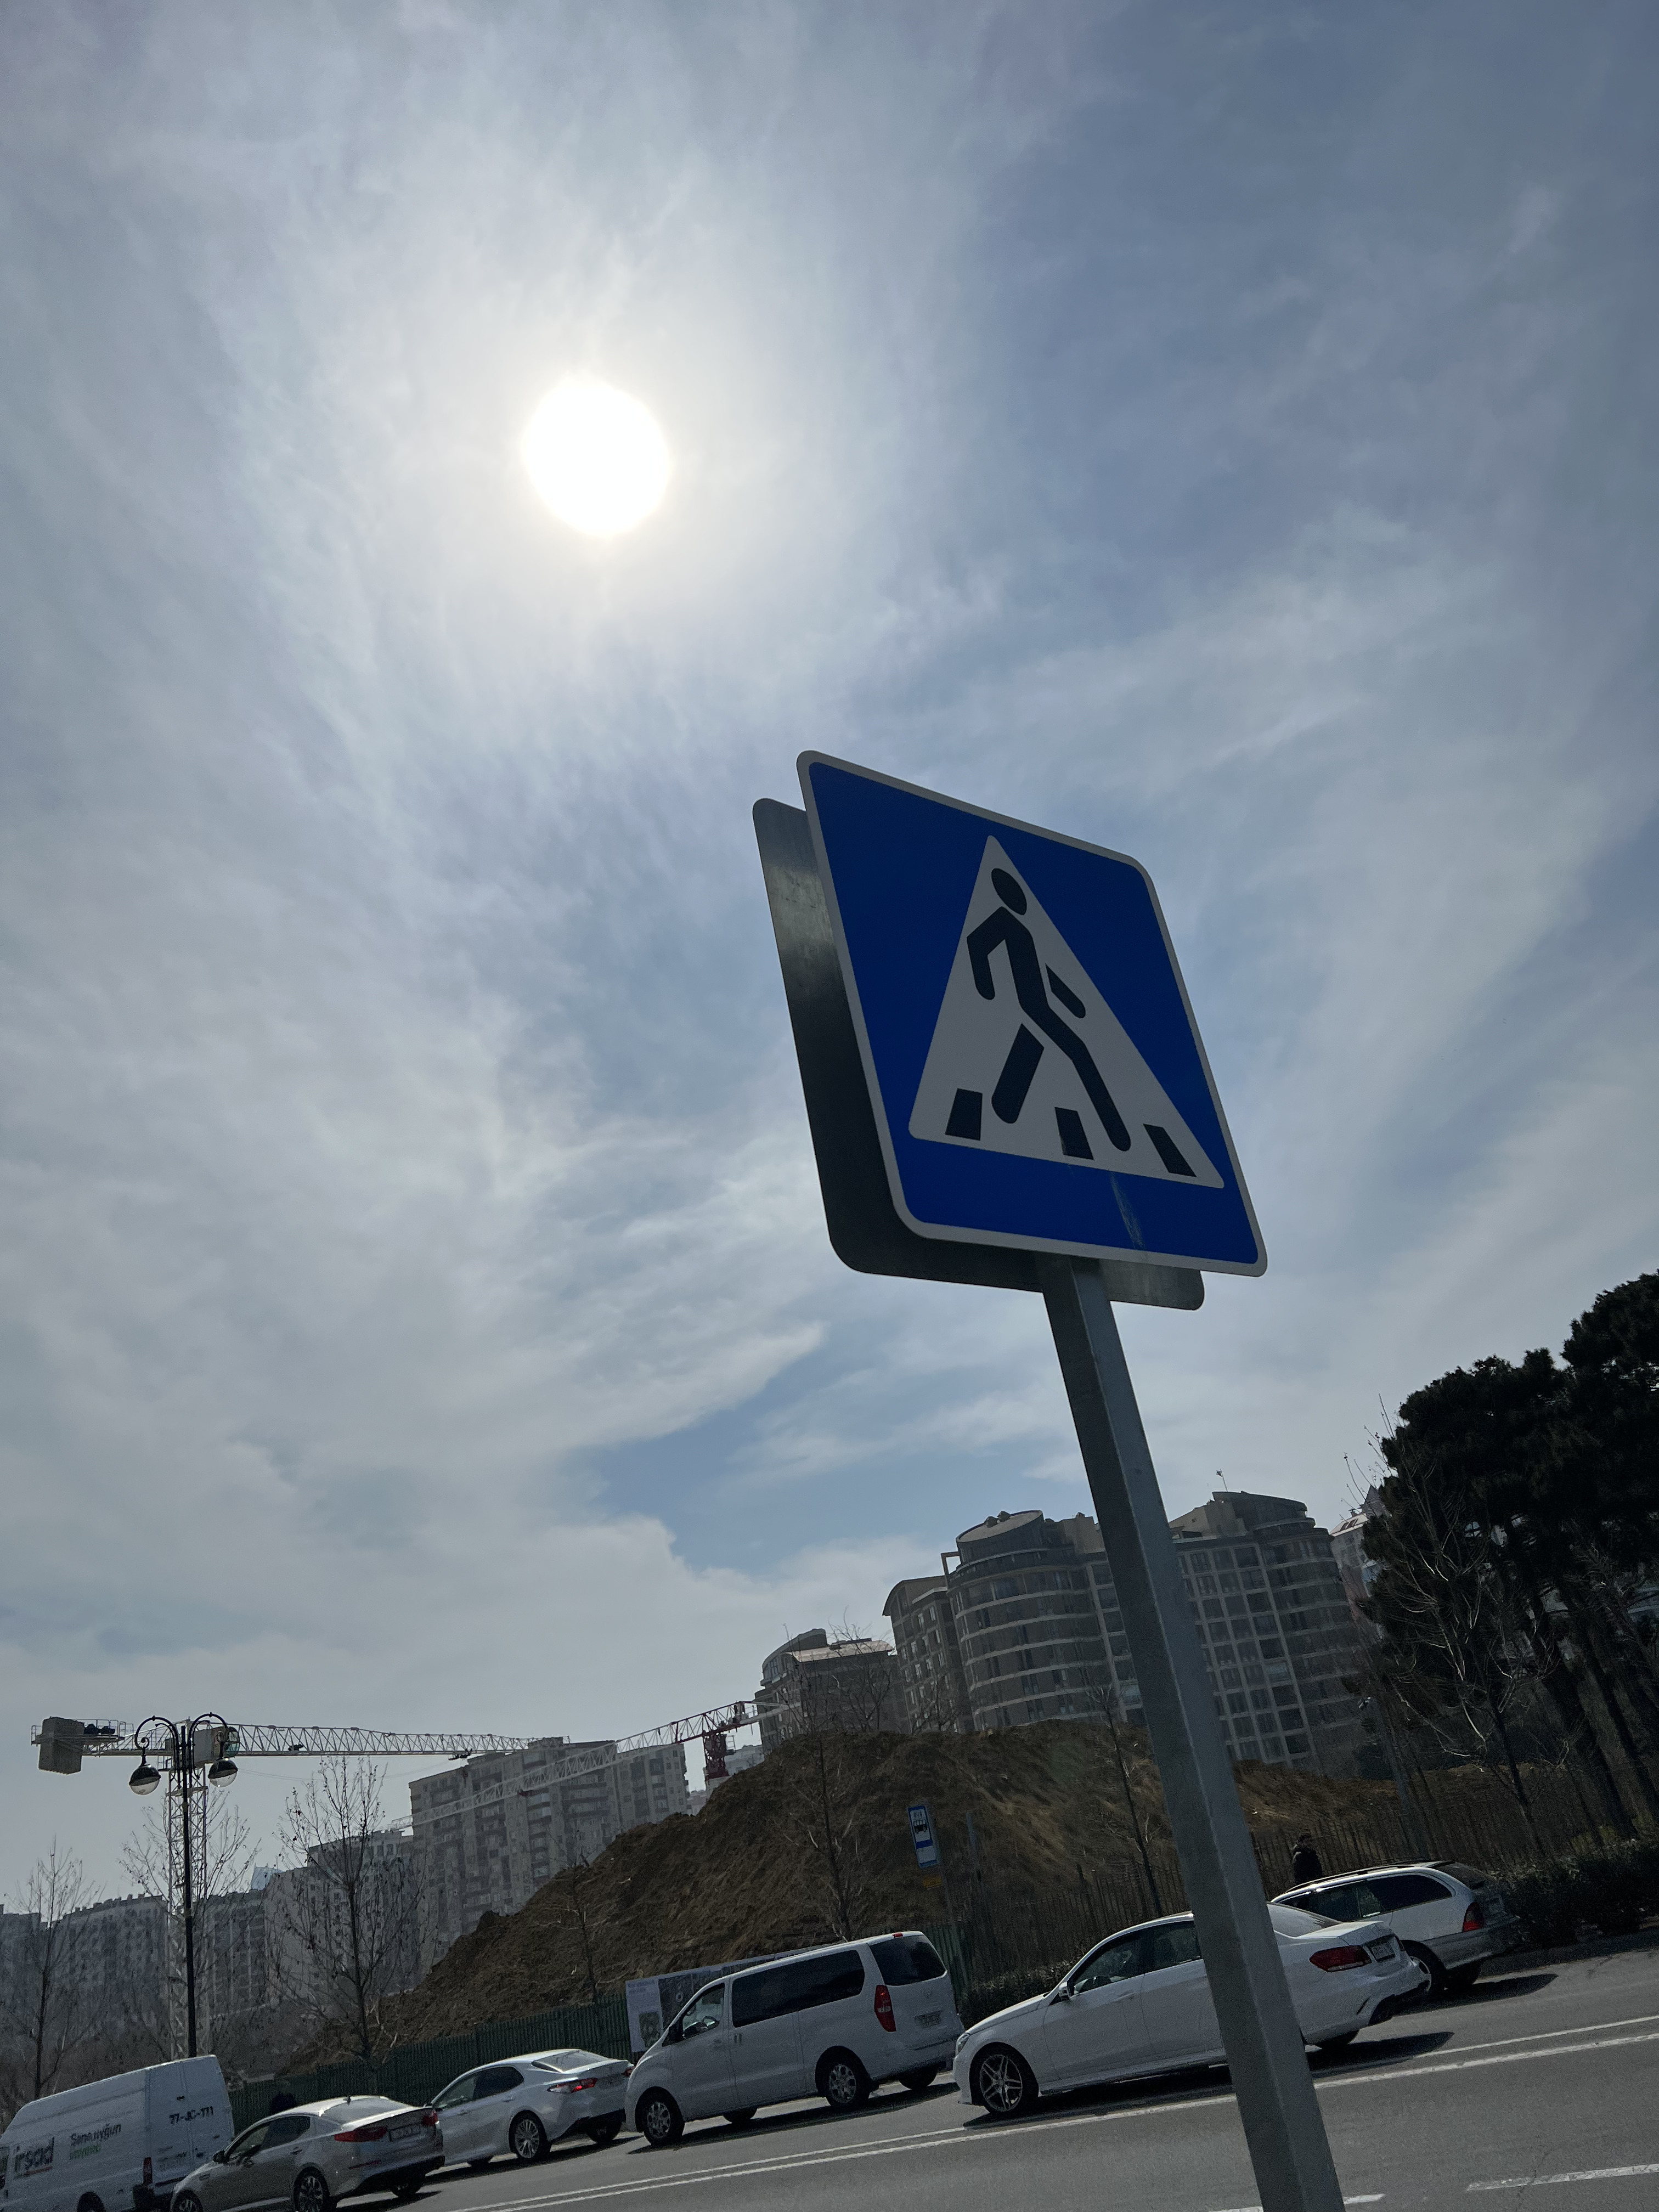Pedestrian Crossing: (795, 747, 1269, 1277)
